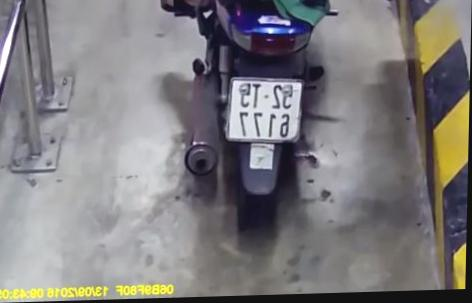License_Plate: (220, 70, 309, 147)
